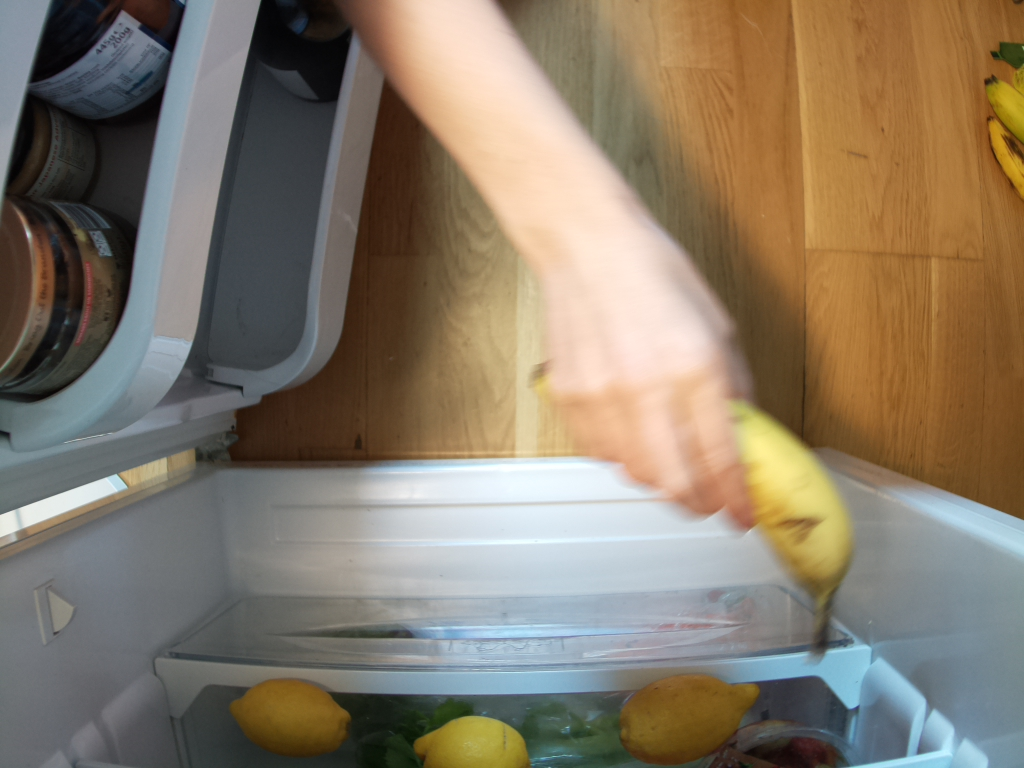banana: (742, 389, 856, 668)
